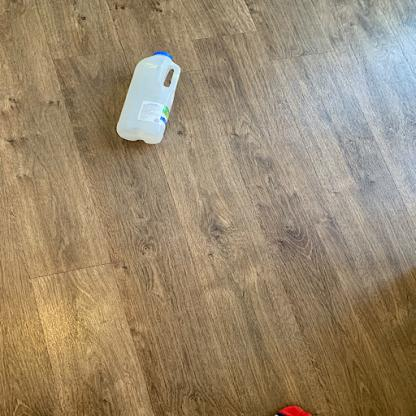trash: (114, 53, 183, 150)
